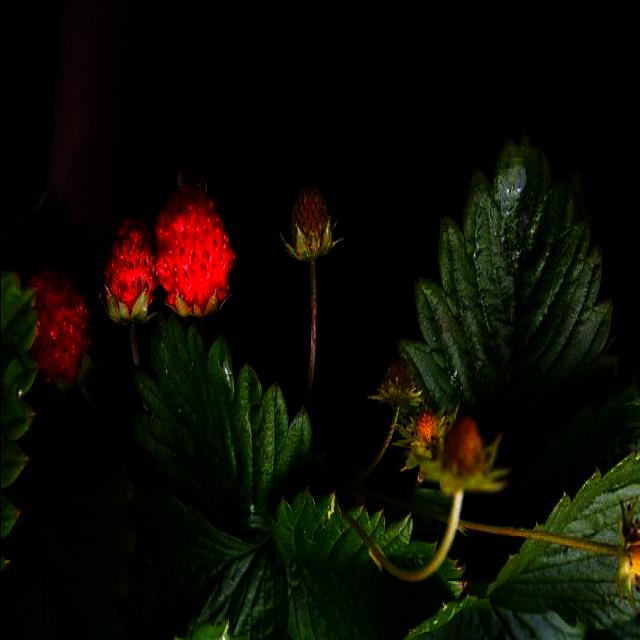ripe: (154, 170, 244, 322), (19, 266, 106, 399), (100, 210, 158, 330)
unripe: (440, 394, 494, 498), (280, 178, 342, 266), (372, 344, 427, 414), (402, 397, 446, 469)
